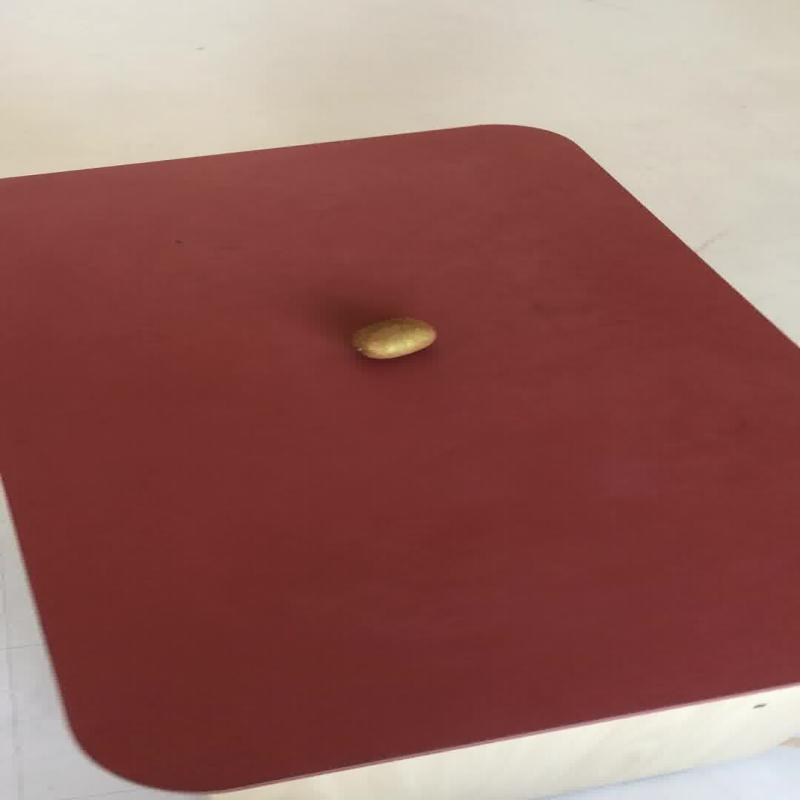kiwi: (348, 316, 436, 360)
